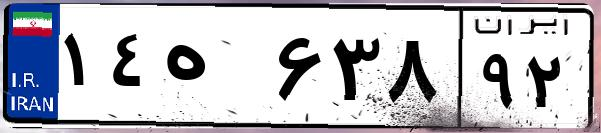1: (57, 26, 110, 100)
2: (525, 38, 570, 115)
3: (330, 28, 385, 110)
4: (110, 28, 158, 98)
6: (270, 28, 330, 110)
8: (385, 28, 445, 110)
9: (475, 38, 525, 113)
ه: (158, 20, 270, 120)
